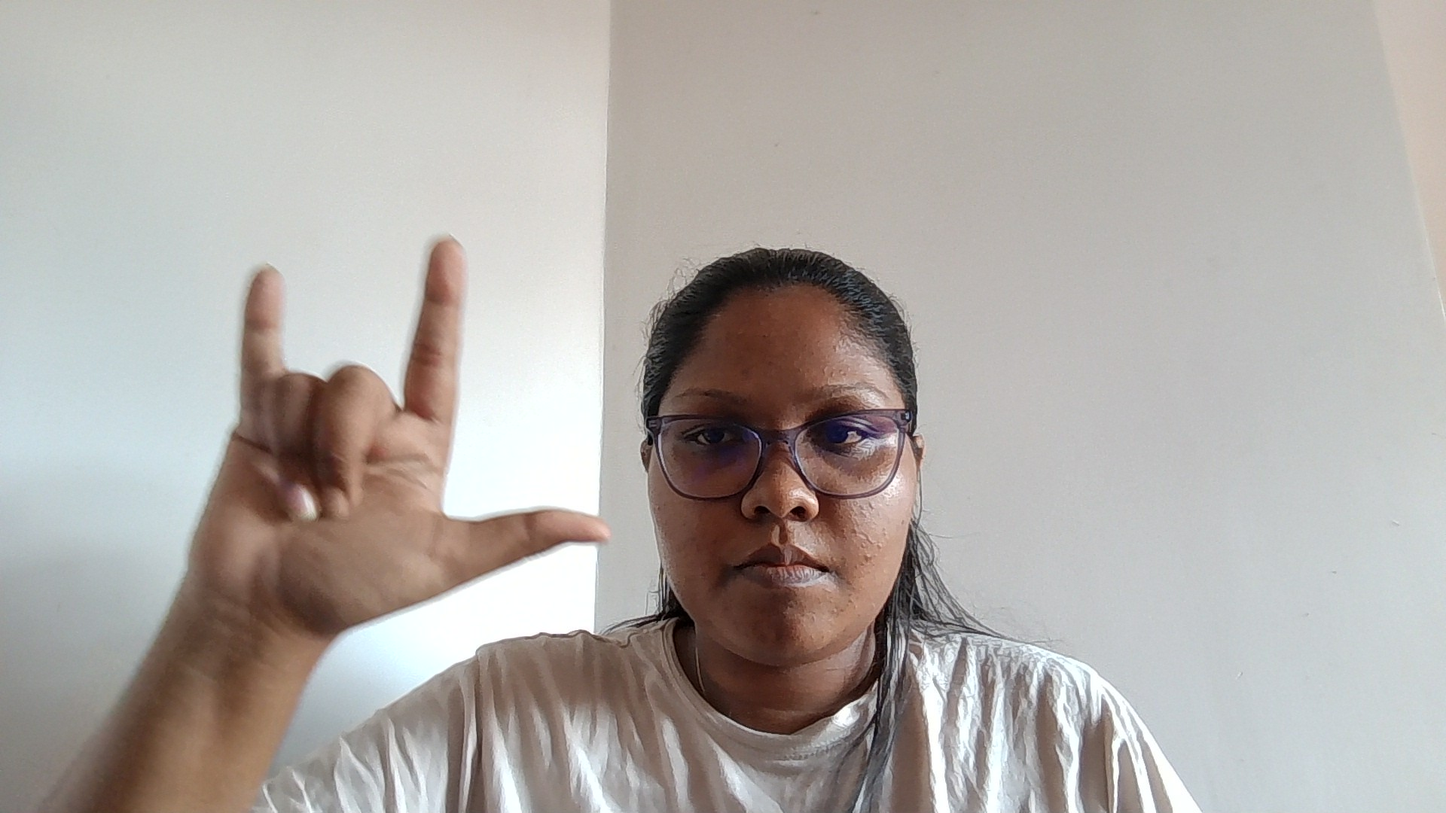I Love You: (183, 200, 645, 720)
